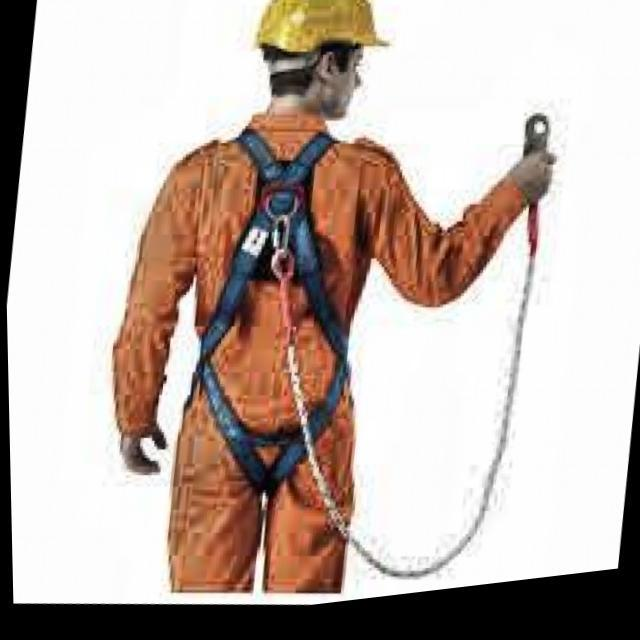belt: (182, 111, 382, 518)
